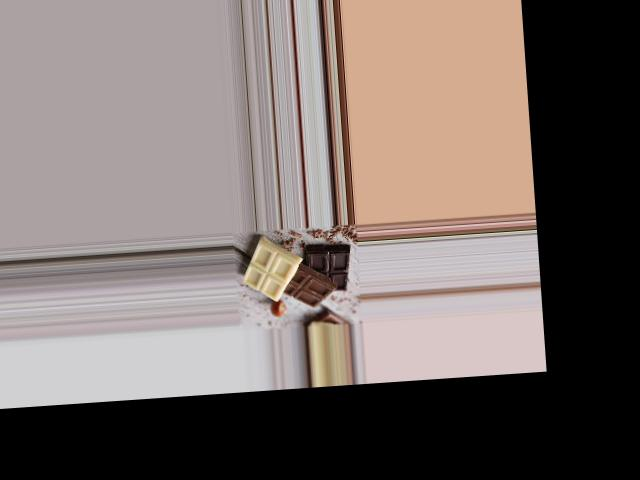chocolate: (240, 236, 359, 312)
